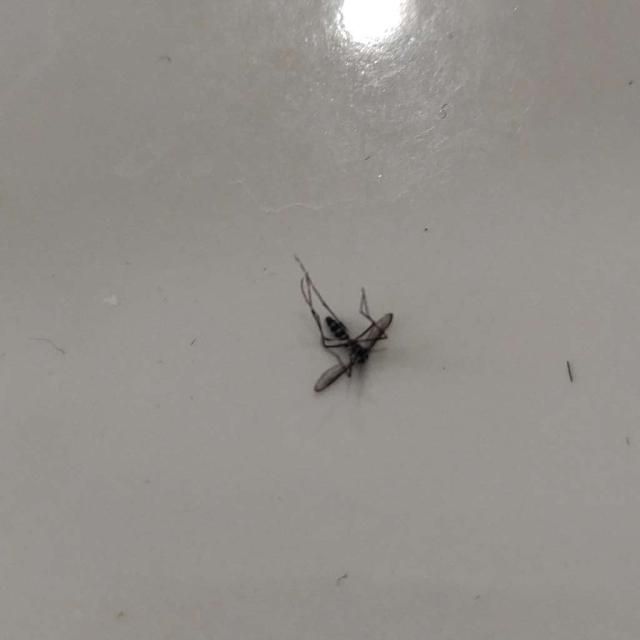albopictus: (282, 247, 400, 392)
